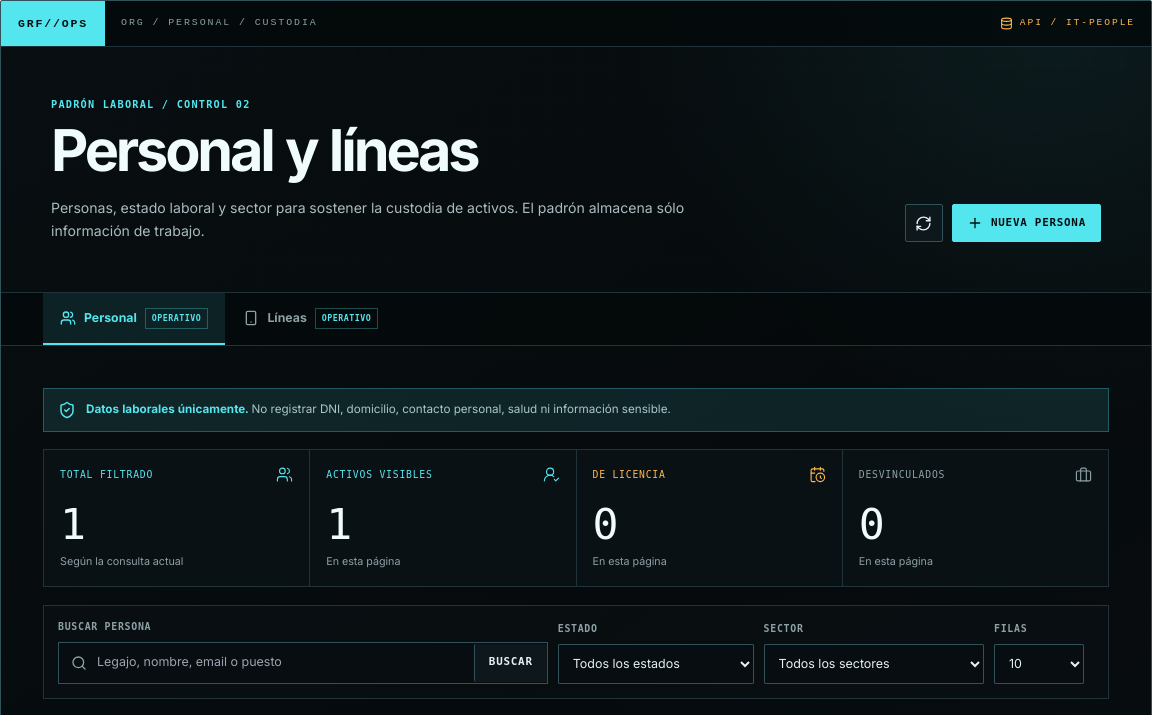
Test: ItStaffPage › cierra el alta aunque la revalidación posterior quede pendiente
Click the button "Nueva persona": (1026, 223) [952,204,1101,242]
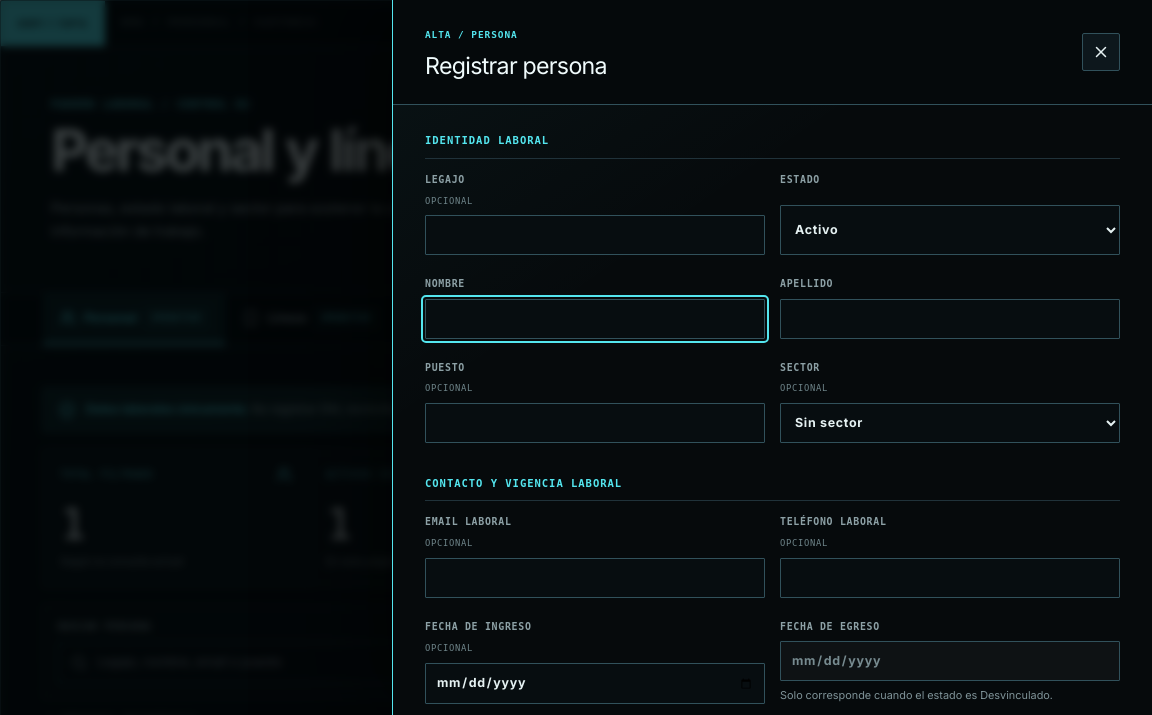
In the field labelled "Nombre": (595, 319) [425,299,765,339], type "Mario"
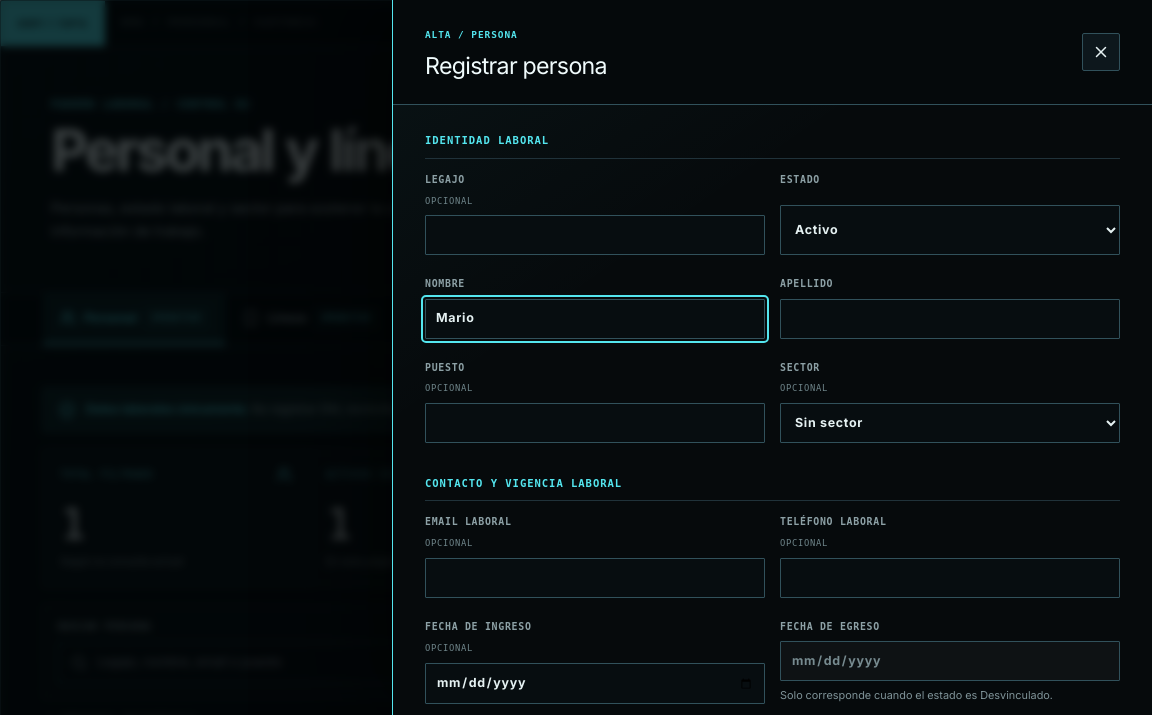
In the field labelled "Apellido": (950, 319) [780,299,1120,339], type "Gómez"
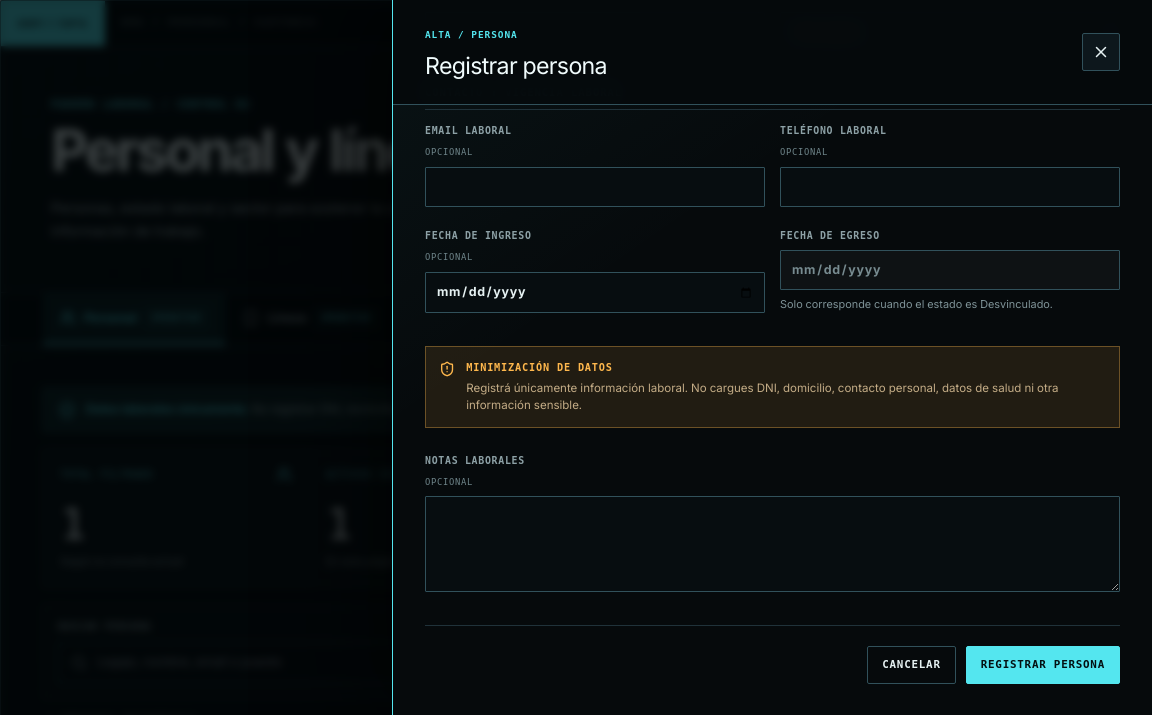
Click the button "Registrar persona": (1043, 665) [966,646,1120,684]
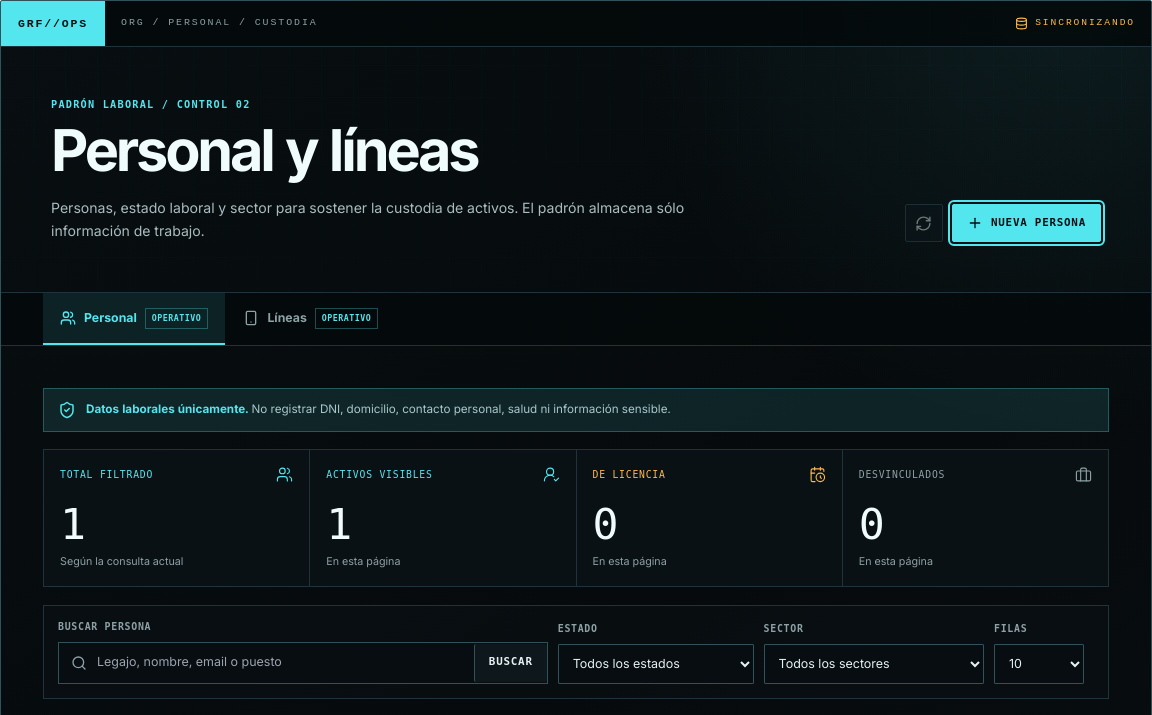
Check: the heading "Registrar persona" is gone
